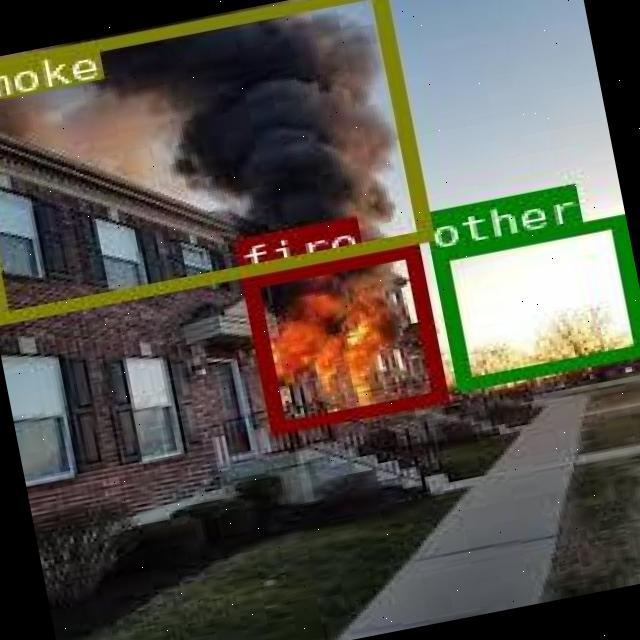fire: (240, 243, 444, 432)
smoke: (0, 0, 431, 324)
